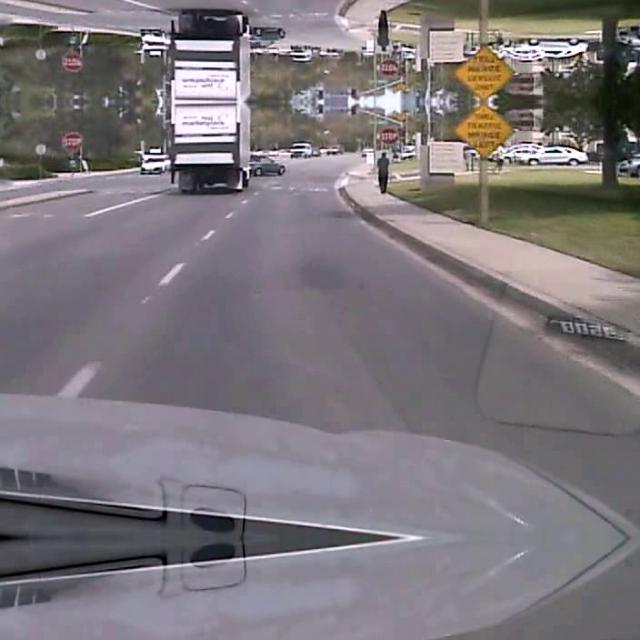stop: (62, 130, 82, 150), (62, 52, 82, 72), (380, 125, 398, 143), (380, 59, 398, 77)
